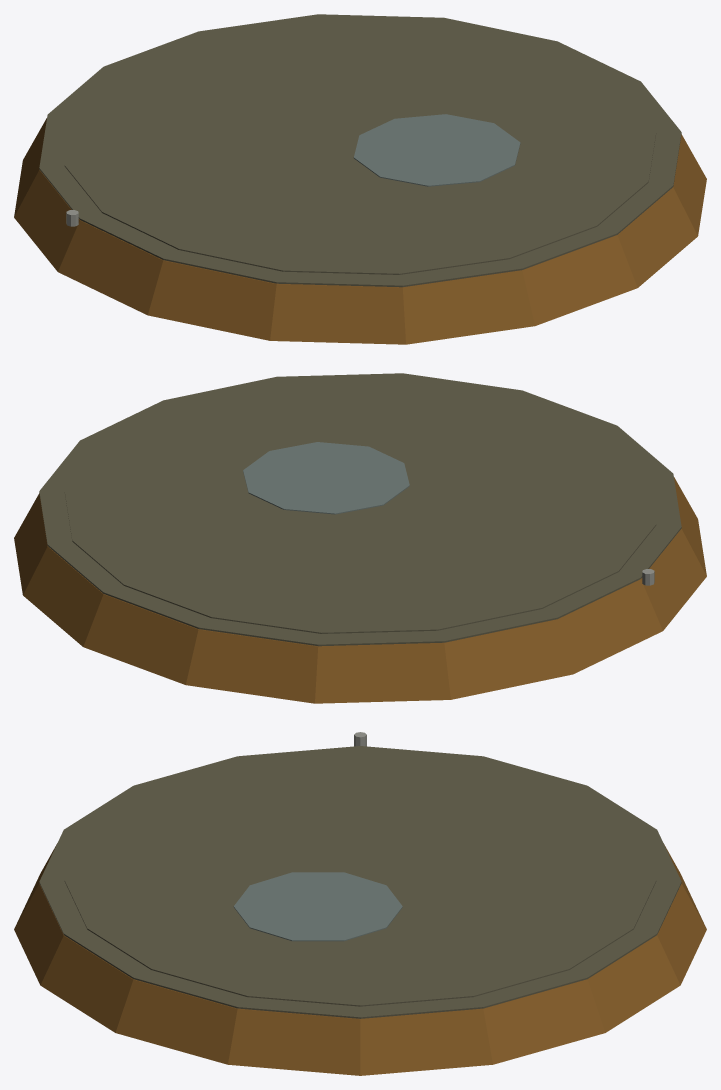
The model's file is SM_Balsa_v2_Vacia_LOD0.fbx.
3 views of the same model, one above another, from view 1: azimuth 30°, elevation 25°; view 2: azimuth 150°, elevation 25°; view 3: azimuth 270°, elevation 25° (orthographic).
Parts seen in each view (by area): view 1: SM_viveres_nules_v17_LOD0; view 2: SM_viveres_nules_v17_LOD0; view 3: SM_viveres_nules_v17_LOD0.
Part boxes in pixels (x1,y1,x2,y2): SM_viveres_nules_v17_LOD0: (14,14,706,344); SM_viveres_nules_v17_LOD0: (14,373,706,703); SM_viveres_nules_v17_LOD0: (14,732,706,1075).
Size of the model in its own units: 16.4 by 1.45 by 16.4.
